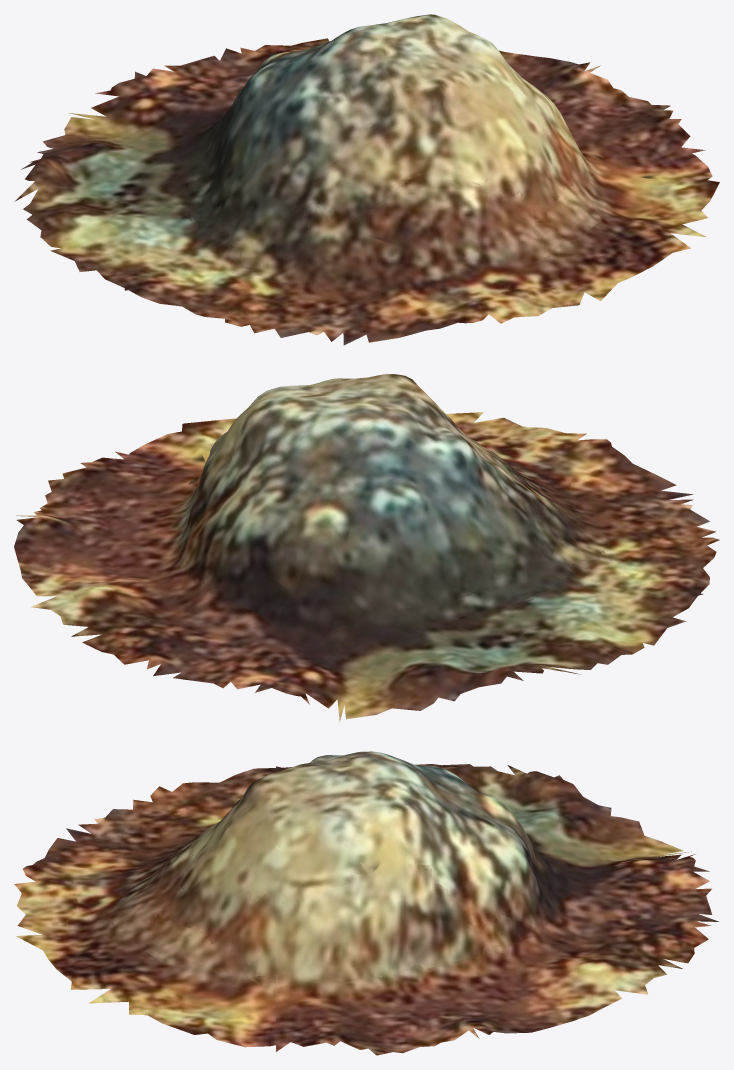
File: dallol-crust-mound.glb
3 renders of one model, top to bottom at view 1: azimuth 30°, elevation 25°; view 2: azimuth 150°, elevation 25°; view 3: azimuth 270°, elevation 25°, orthographic.
Parts seen in each view (by area): view 1: dallol-crust-mound_LOD0; view 2: dallol-crust-mound_LOD0; view 3: dallol-crust-mound_LOD0.
Part boxes in pixels (box(x1,y1,x2,y2)): dallol-crust-mound_LOD0: box(14, 14, 719, 345); dallol-crust-mound_LOD0: box(14, 374, 719, 722); dallol-crust-mound_LOD0: box(14, 751, 718, 1055).
Size of what is drawn, in the model's own units: 7.42 by 1.84 by 7.4.
1 material, 1 textured.
